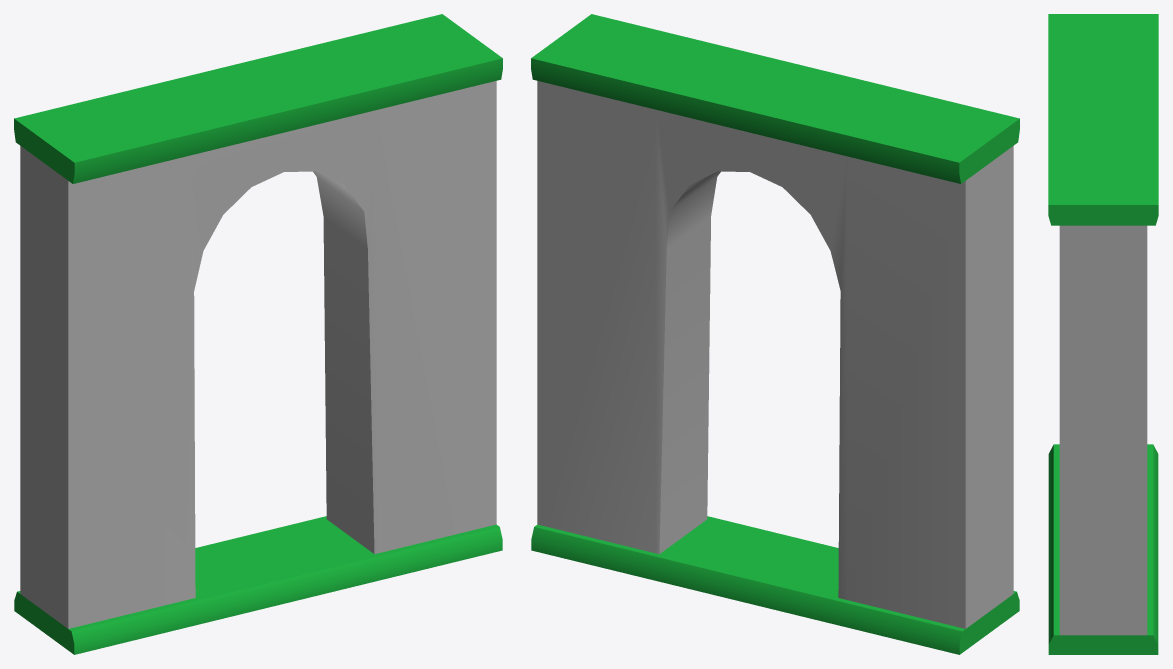
The model's file is Basic Entryway Two Sided.fbx.
The picture shows the model from 3 angles, left to right: view 1: azimuth 30°, elevation 25°; view 2: azimuth 150°, elevation 25°; view 3: azimuth 270°, elevation 25°; orthographic projection. The views are drawn at different scales.
Visible parts, largest first — view 1: Entryway; view 2: Entryway; view 3: Entryway.
Part boxes in pixels (x1=…): Entryway: x1=14, y1=14, x2=502, y2=654; Entryway: x1=531, y1=14, x2=1019, y2=654; Entryway: x1=1048, y1=14, x2=1158, y2=654.
Bounding box in the file's own units: 419 × 461 × 103.
